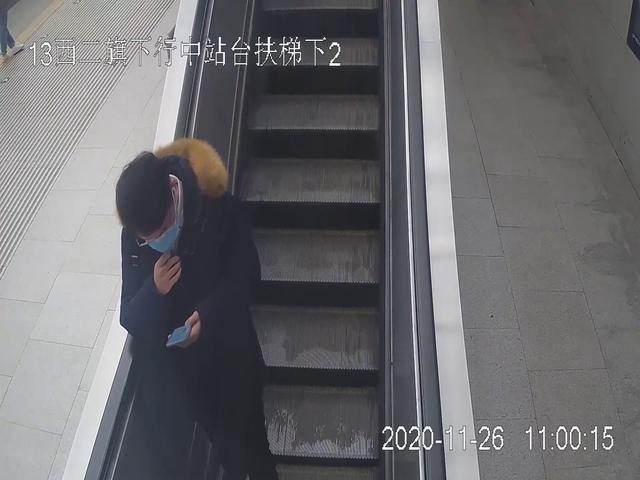person: (116, 137, 276, 480)
